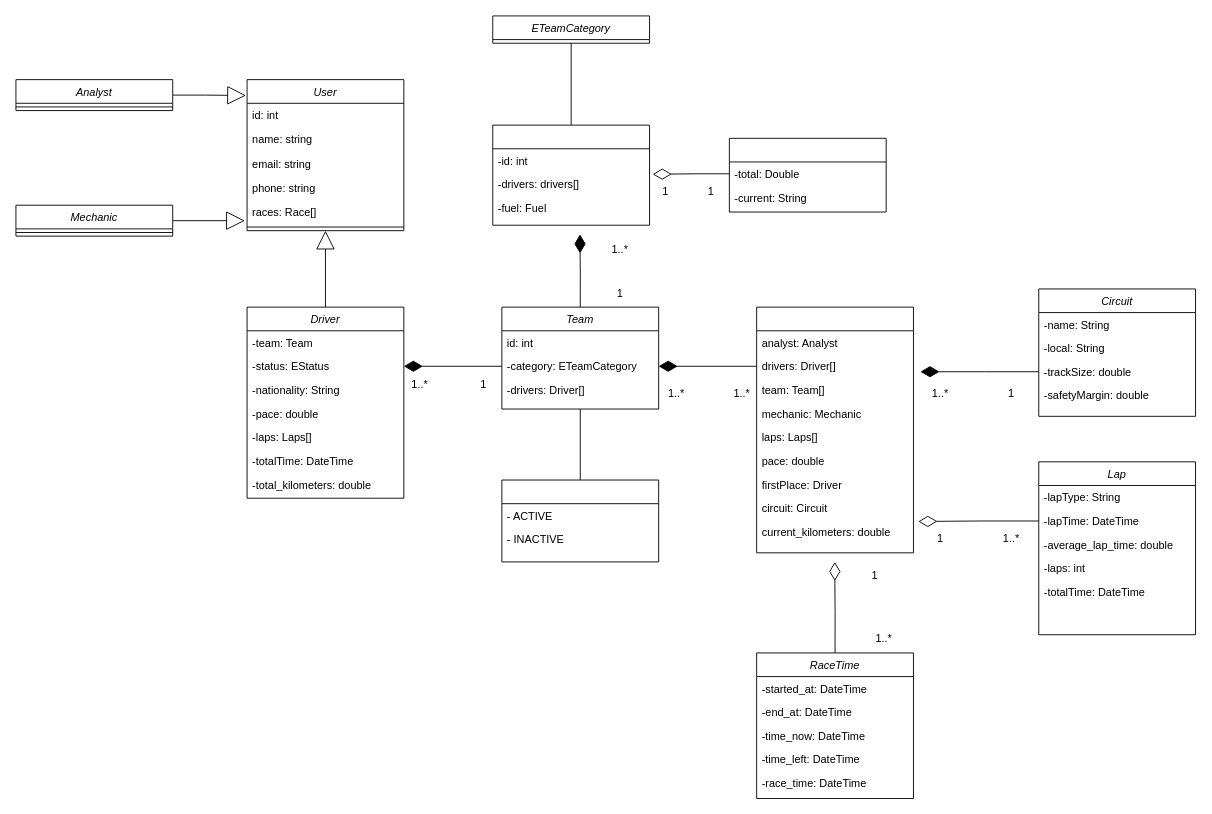
This 1212x814 diagram has some shape labels left out. The box of each missing label's shape, as (x1, y1, x2, y2) in pixels:
Car: (492, 124, 650, 225)
EStatus: (501, 479, 659, 562)
Fuel: (728, 137, 886, 212)
Race: (756, 306, 913, 553)
